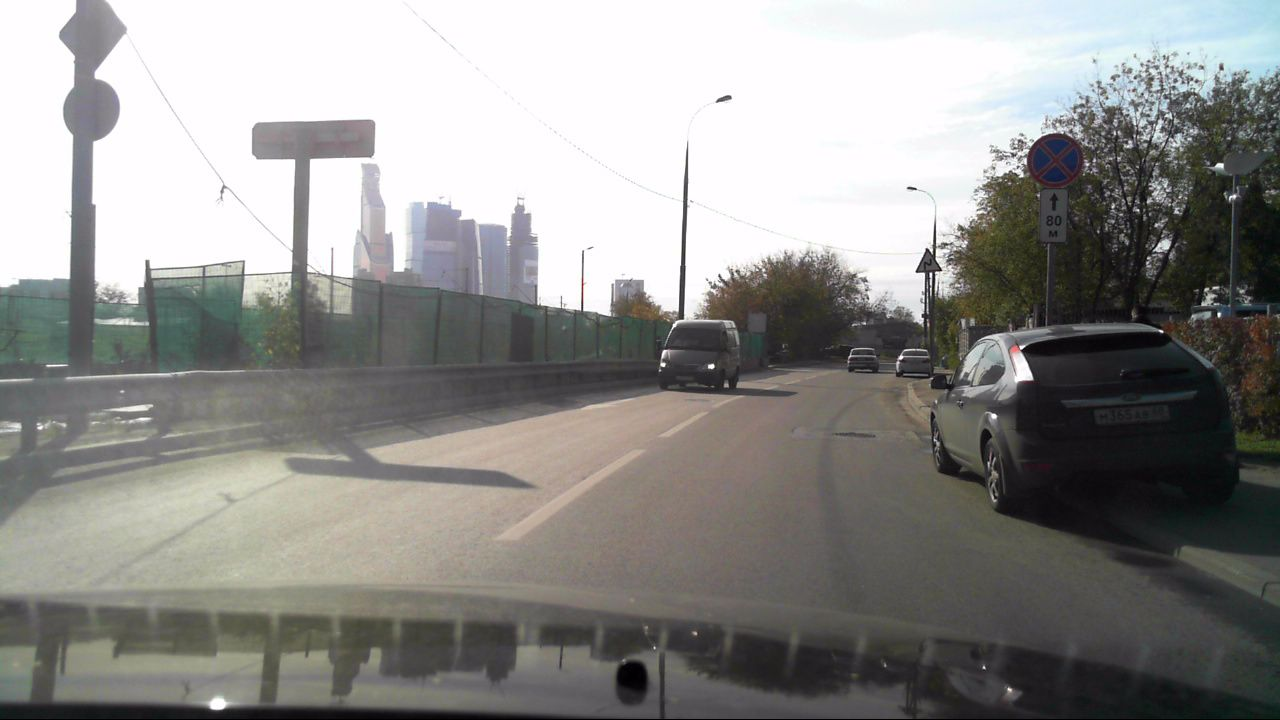No Parking: (1027, 133, 1086, 186)
